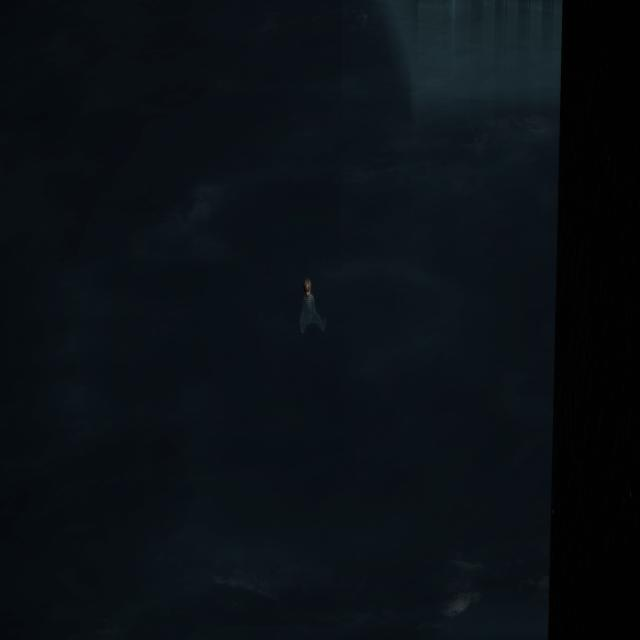Human: (294, 273, 328, 340)
